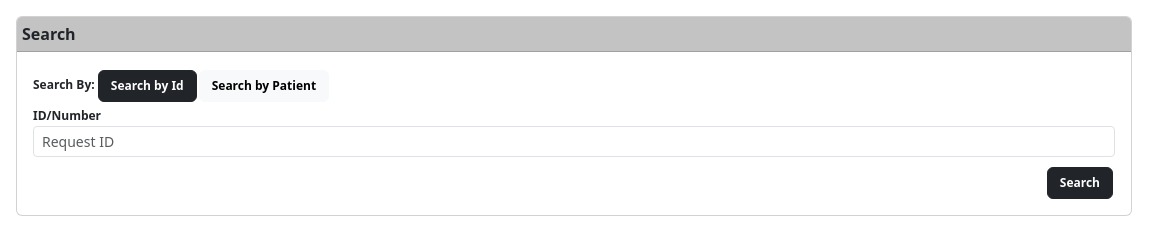
Test: SearchRequestView Component › switches back to ID search form when ID search button is clicked
Click the button "Search by Patient" at (264, 86), box [199, 70, 329, 102]
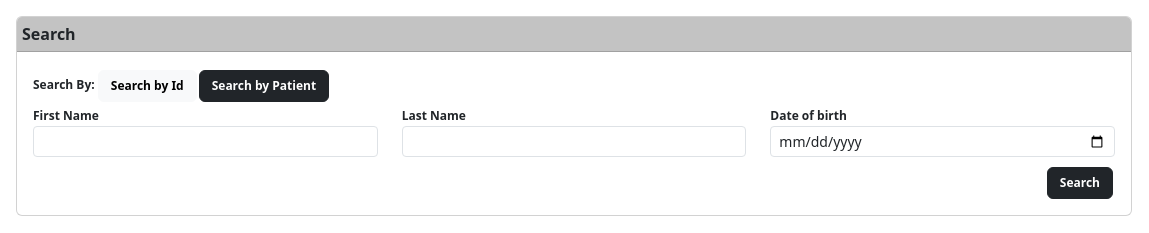
Click the button "Search by Id" at (147, 86), box [98, 70, 197, 102]
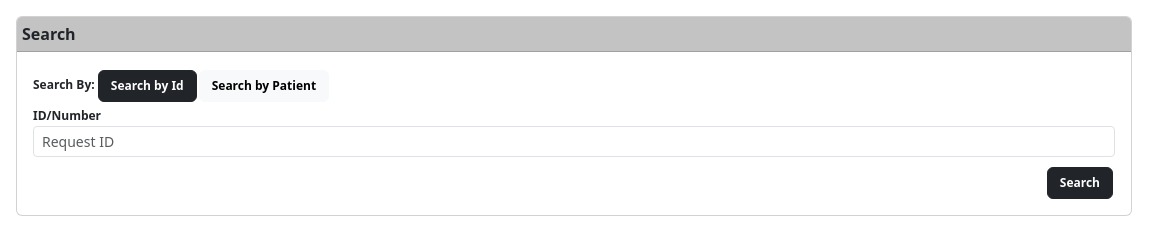
Expected: the text "ID/Number" is shown, [33, 107, 101, 125]
Expected: the field with placeholder "Request ID" is shown, [33, 126, 1115, 157]
